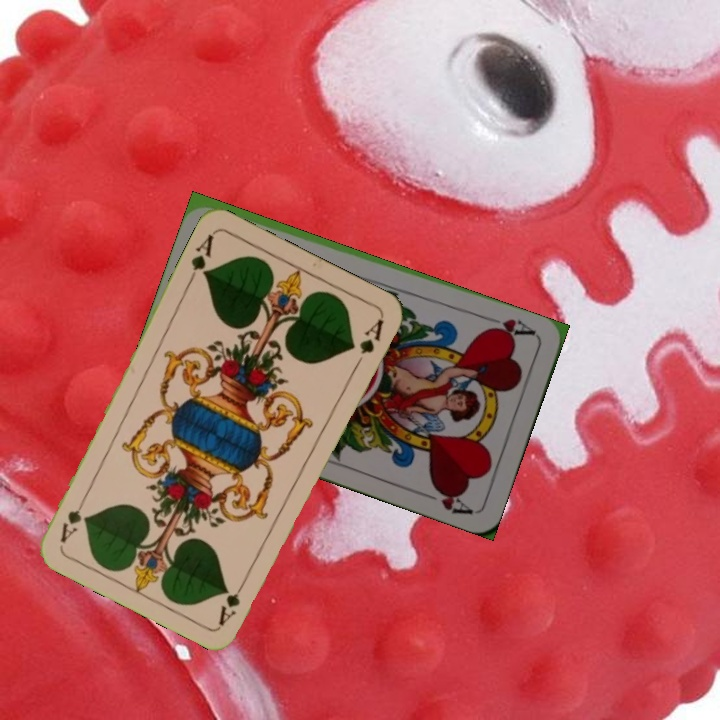GA: (215, 572, 251, 627), (185, 230, 217, 286)
HA: (481, 312, 539, 341)
